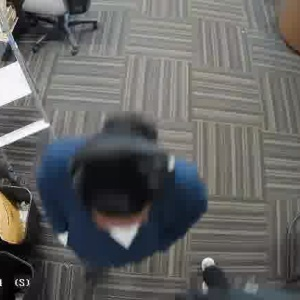person: (47, 121, 193, 258)
